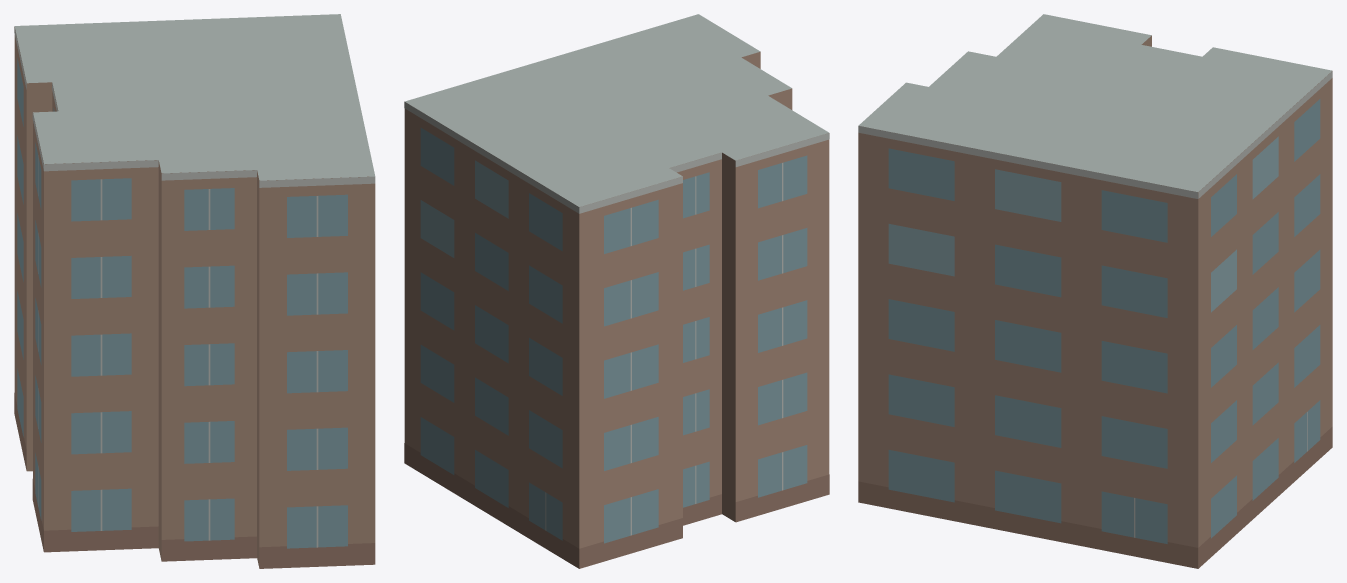
File: survey-upis-32735117.glb
3 renders of one model, left to right at view 1: azimuth 30°, elevation 25°; view 2: azimuth 150°, elevation 25°; view 3: azimuth 270°, elevation 25°, orthographic. The views are drawn at different scales.
Visible parts, largest first — view 1: survey-upis-32735117.tmp; view 2: survey-upis-32735117.tmp; view 3: survey-upis-32735117.tmp.
Boxes of the visible parts, x1,y1,x2,y2 form: survey-upis-32735117.tmp: (14,14,375,568); survey-upis-32735117.tmp: (404,14,829,568); survey-upis-32735117.tmp: (858,14,1332,568).
Size of the model in its own units: 13.4 by 13.2 by 15.08.
